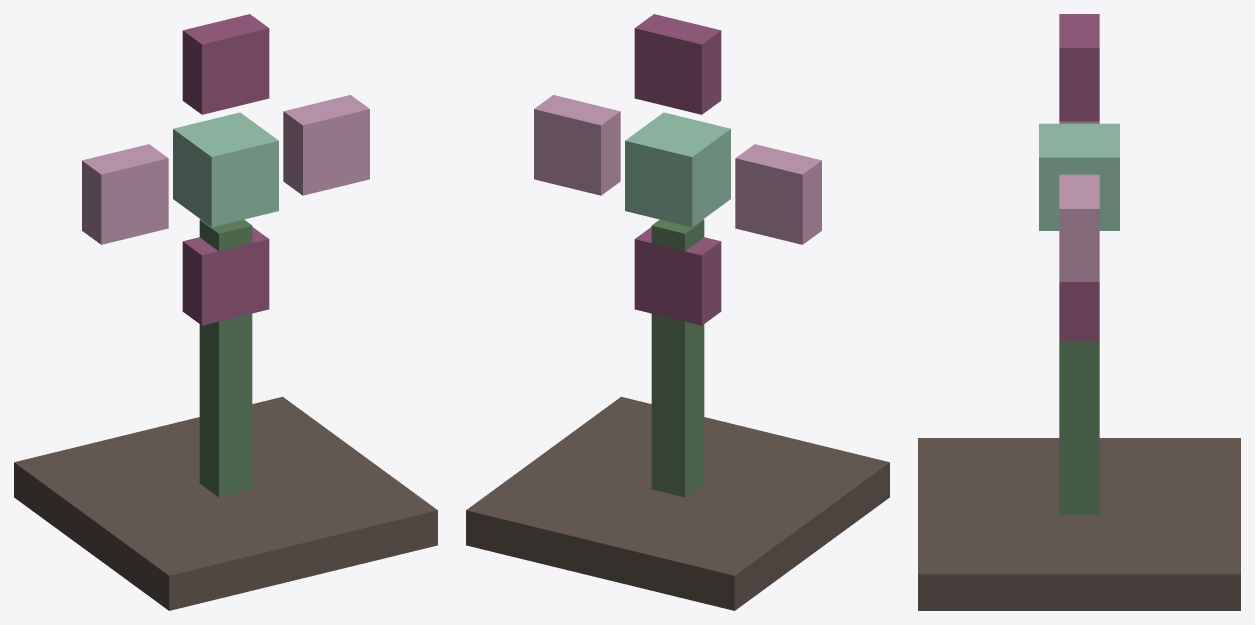
Rendered from landmark.glb.
3 views of the same model, side by side, from view 1: azimuth 30°, elevation 25°; view 2: azimuth 150°, elevation 25°; view 3: azimuth 270°, elevation 25° (orthographic). The views are drawn at different scales.
Visible parts, largest first — view 1: Shell; view 2: Shell; view 3: Shell.
Part boxes in pixels (x1,y1,x2,y2): Shell: (14,14,437,610); Shell: (466,14,889,610); Shell: (918,14,1240,610).
Size of the model in its own units: 2 by 3.5 by 2.
